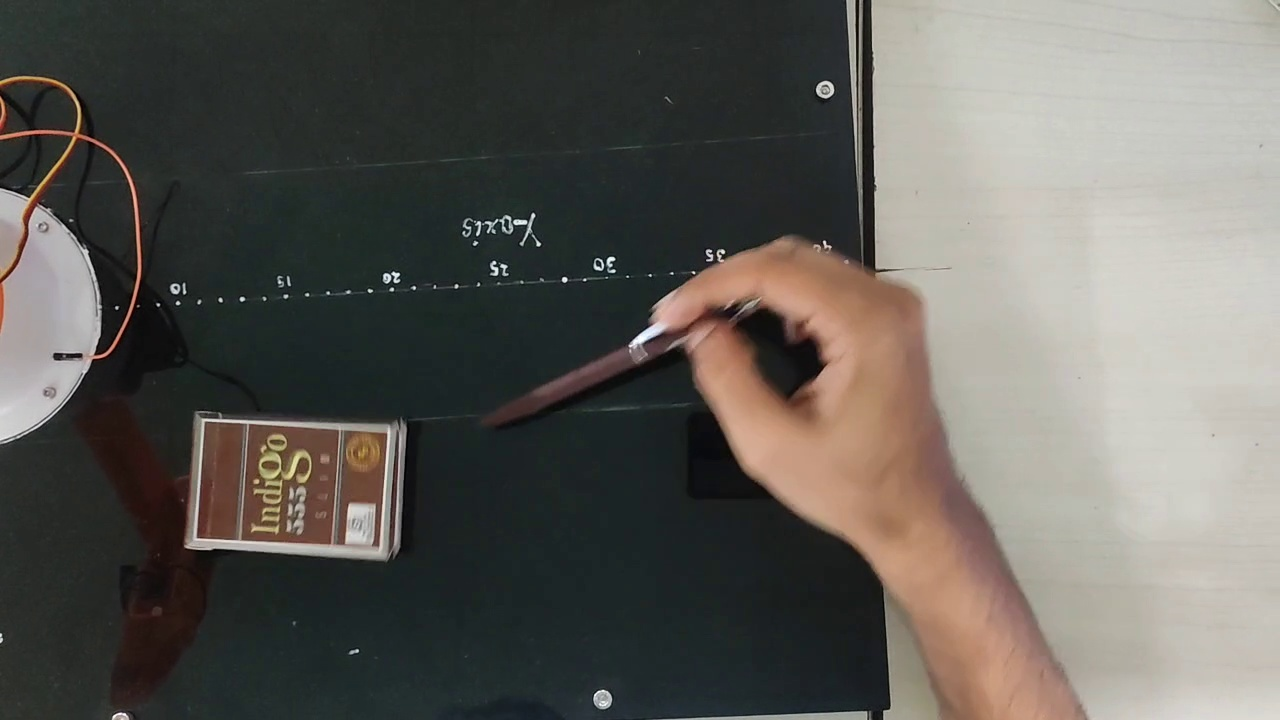BEX: (195, 421, 390, 549)
